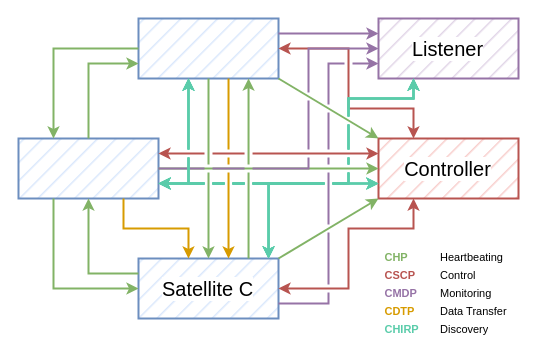
Image size: 536x355. Some labels were removed from this diagram. Here are the shapes that lost their labels. From the top down, the centre of each, then its label:
At point (208, 48): "Satellite A".
At point (88, 168): "Satellite B".
